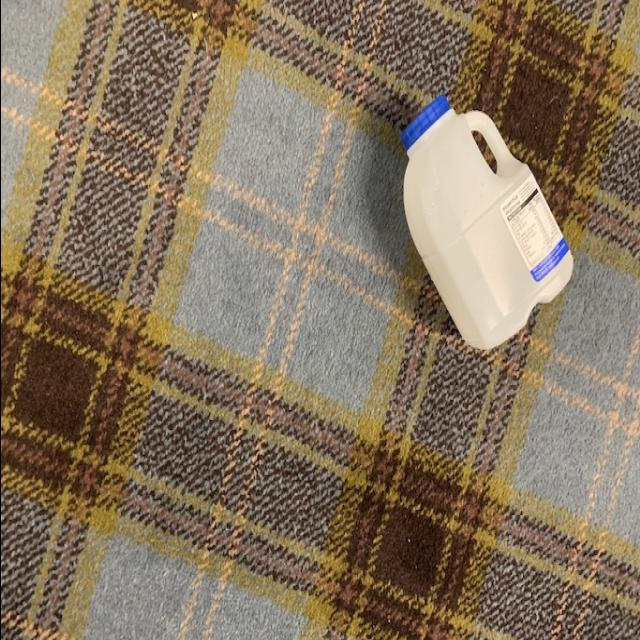litter: (394, 89, 574, 359)
